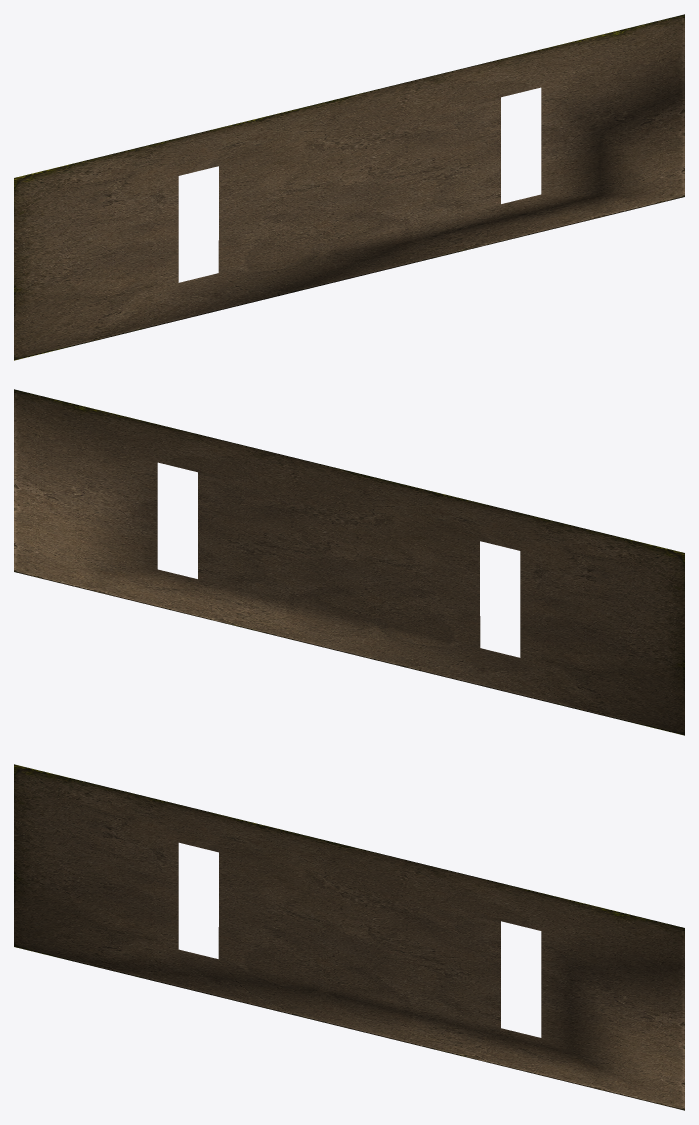
Rendered from temple_innertop_elevator_nookwall.fbx.
The picture shows the model from 3 angles, top to bottom: view 1: azimuth 30°, elevation 25°; view 2: azimuth 150°, elevation 25°; view 3: azimuth 330°, elevation 25°; orthographic projection.
Parts seen in each view (by area): view 1: innertop.006; view 2: innertop.006; view 3: innertop.006.
Part boxes in pixels (box(x1,y1,x2,y2)): innertop.006: box(14, 14, 684, 360); innertop.006: box(14, 389, 684, 735); innertop.006: box(14, 764, 684, 1110).
Size of the model in its own units: 140 by 36.53 by 0.000881.
